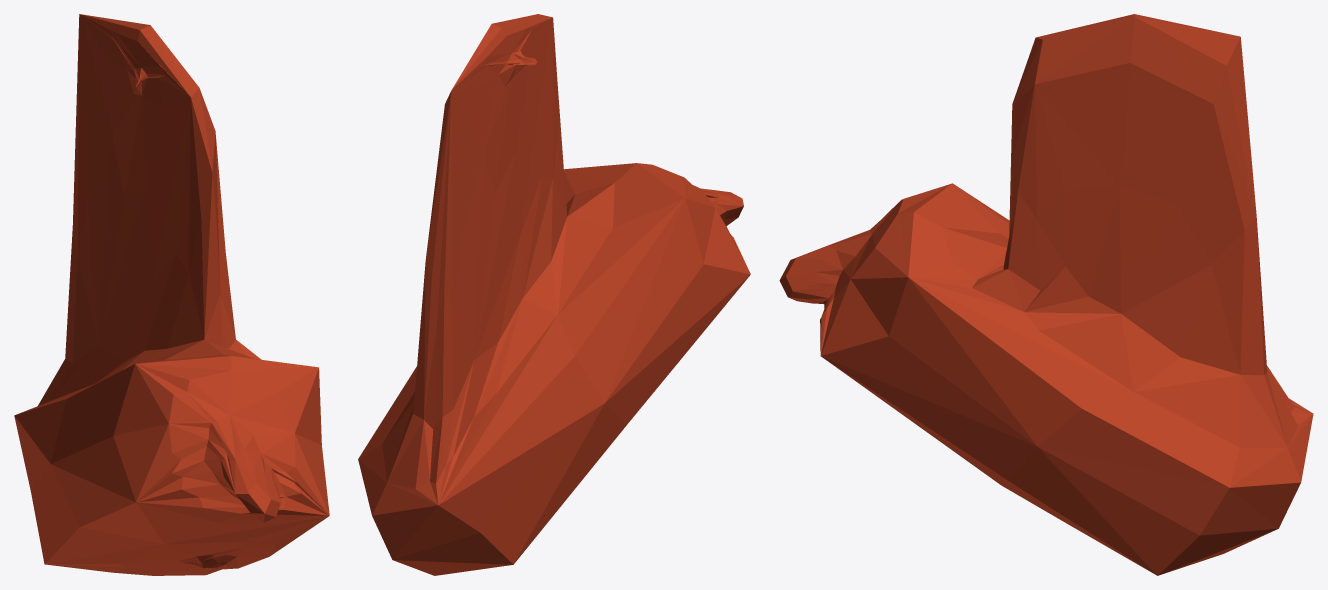
The picture shows the model from 3 angles, left to right: view 1: azimuth 30°, elevation 25°; view 2: azimuth 150°, elevation 25°; view 3: azimuth 270°, elevation 25°; orthographic projection. The views are drawn at different scales.
Parts seen in each view (by area): view 1: 644_Cube.2591; view 2: 644_Cube.2591; view 3: 644_Cube.2591.
Part boxes in pixels (bbox=[...]): 644_Cube.2591: bbox=[14, 14, 329, 575]; 644_Cube.2591: bbox=[358, 14, 750, 575]; 644_Cube.2591: bbox=[779, 14, 1313, 575].
Size of the model in its own units: 6.26 by 14.05 by 12.82.
